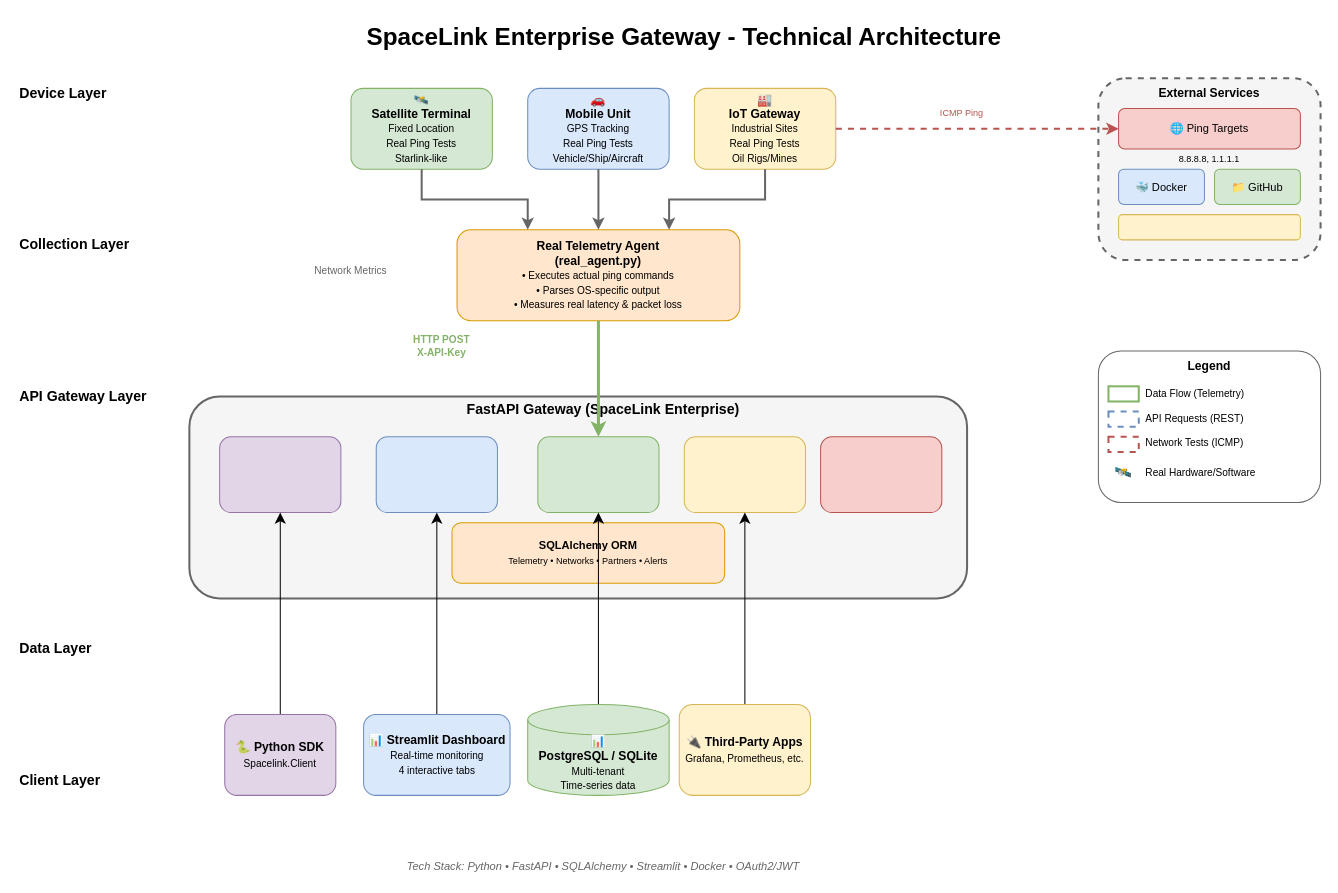
The diagram is 1338 pixels wide and 893 high, and some of its shapes have lost their labels. The shapes that lost their labels are listed below. From the top down, each one's centre as x and y in pixels, then its label:
point (1209, 227): ⚙️ CI/CD Pipeline
point (280, 474): Authentication & RBAC • OAuth2/JWT • API Keys • 4 Roles
point (436, 474): Networks API • Health scoring • SLA tracking • Config mgmt
point (598, 474): Telemetry API • Send telemetry • Query data • Statistics
point (744, 474): Partners API • Onboarding • API key gen • Integration
point (881, 474): OpenAPI Swagger Docs
